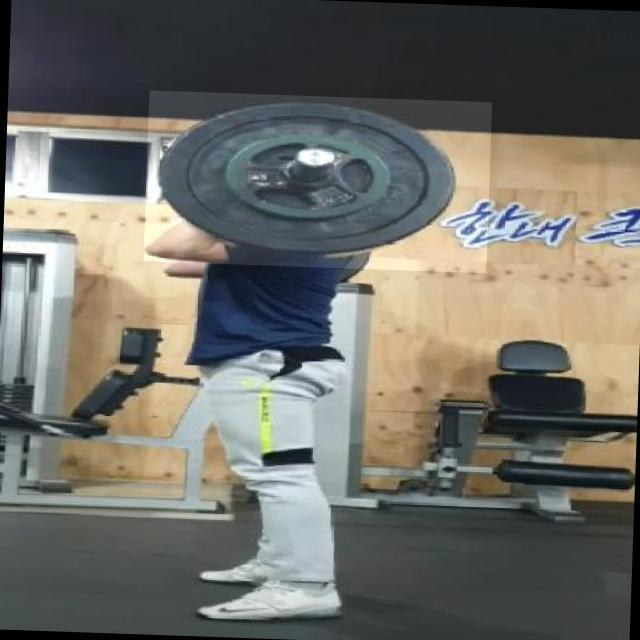barbell: (144, 91, 493, 274)
